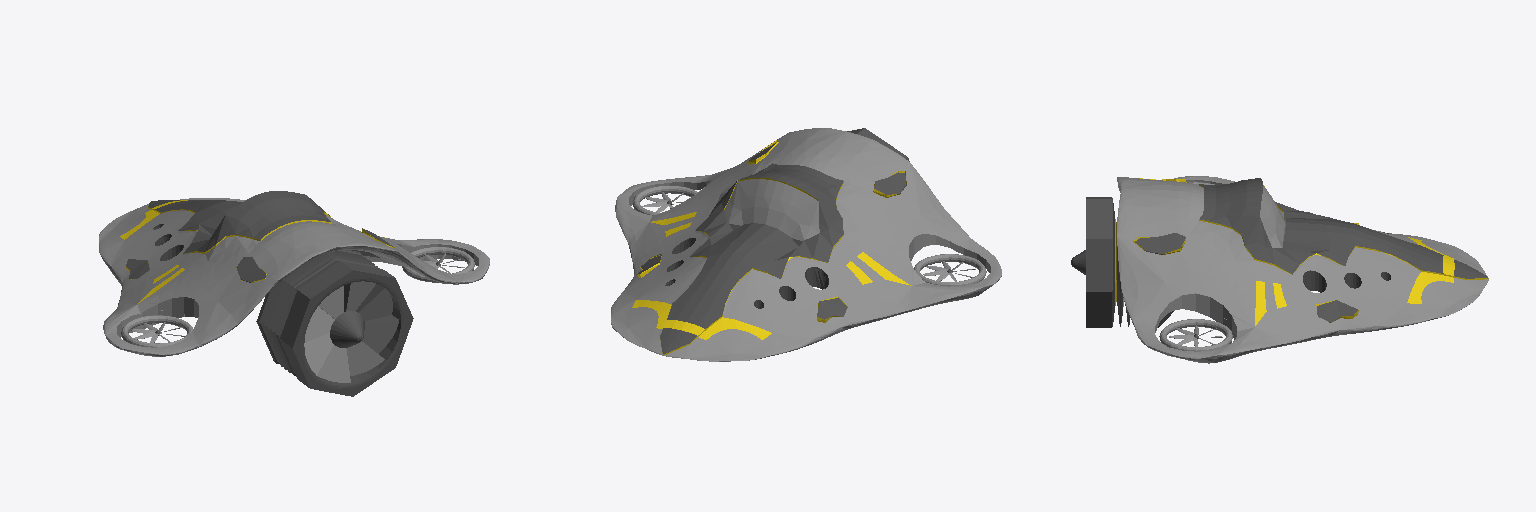
Rendered from SWAG.obj.
3 renders of one model, left to right at view 1: azimuth 30°, elevation 25°; view 2: azimuth 150°, elevation 25°; view 3: azimuth 270°, elevation 25°, orthographic.
Parts seen in each view (by area): view 1: Cylinder001, Gengon001, Tube001, Hose001, Cone001, Torus001, Torus002; view 2: Cylinder001, Torus001, Torus002; view 3: Cylinder001, Tube001, Hose001, Torus002.
Part boxes in pixels (x1,y1,x2,y2): Cylinder001: (99, 191, 489, 356); Gengon001: (304, 281, 398, 382); Tube001: (282, 262, 413, 396); Hose001: (256, 250, 382, 379); Cone001: (330, 311, 364, 347); Torus001: (121, 315, 192, 347); Torus002: (402, 247, 474, 282); Cylinder001: (611, 128, 1001, 361); Torus001: (914, 254, 986, 286); Torus002: (633, 186, 697, 215); Cylinder001: (1117, 176, 1488, 363); Tube001: (1086, 197, 1106, 327); Hose001: (1107, 197, 1173, 327); Torus002: (1159, 319, 1232, 351).
Size of the model in its own units: 142 by 51.06 by 138.